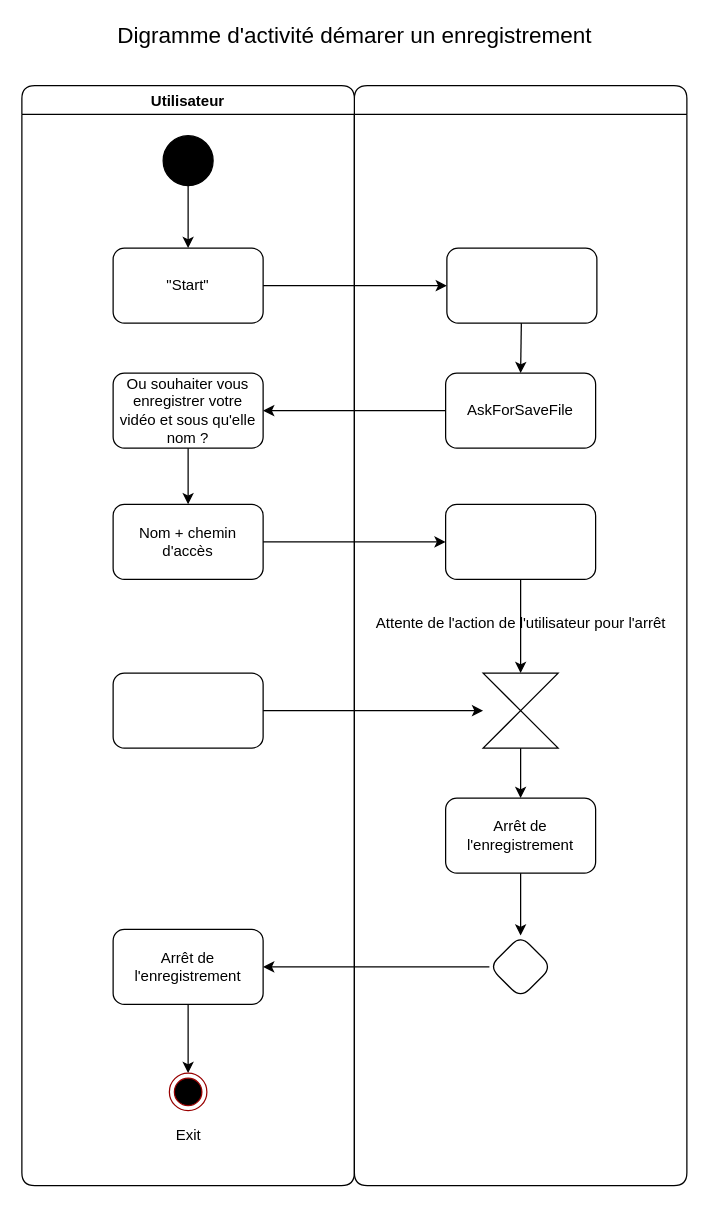
This 709x1208 diagram has some shape labels left out. The shapes that lost their labels are listed below. From the top down, each one's box as (x1, y1, x2, y2) in pixels, then its label:
(446, 247, 597, 323): Appel de la fonction "Recording"
(444, 503, 596, 579): Démarage de l'enregistrement
(353, 84, 687, 1186): Application
(112, 672, 263, 748): "Stop"
